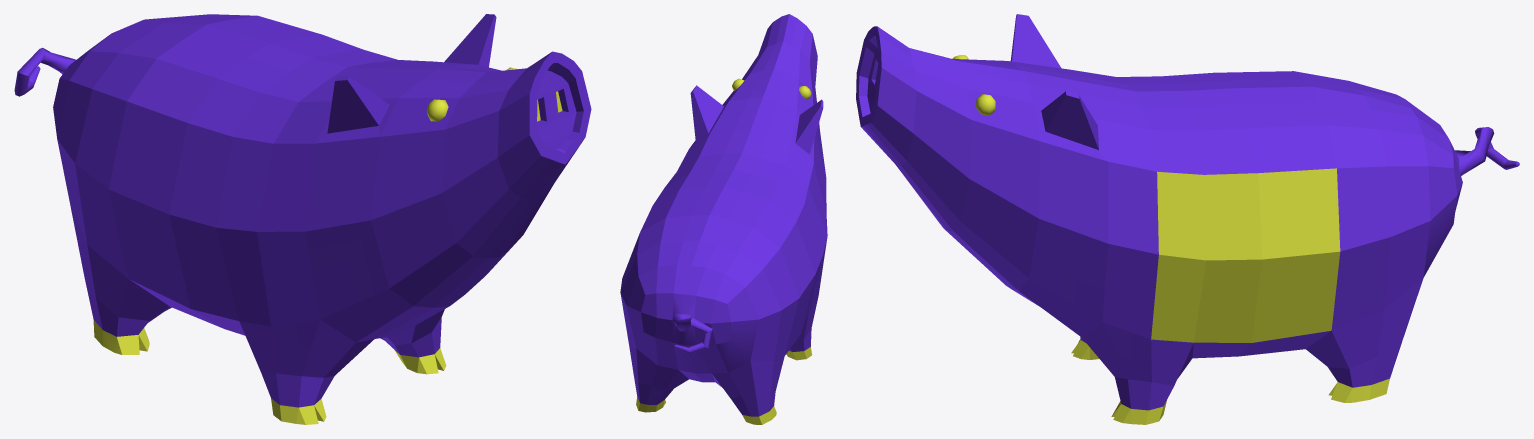
File: M_rPig.fbx
3 views of the same model, side by side, from view 1: azimuth 30°, elevation 25°; view 2: azimuth 150°, elevation 25°; view 3: azimuth 270°, elevation 25° (orthographic). The views are drawn at different scales.
Visible parts, largest first — view 1: uvproject2; view 2: uvproject2; view 3: uvproject2.
Part boxes in pixels (x1,y1,x2,y2): uvproject2: (14,14,591,424); uvproject2: (620,14,827,424); uvproject2: (856,14,1519,424).
Size of the model in its own units: 13.92 by 19.53 by 30.55.
